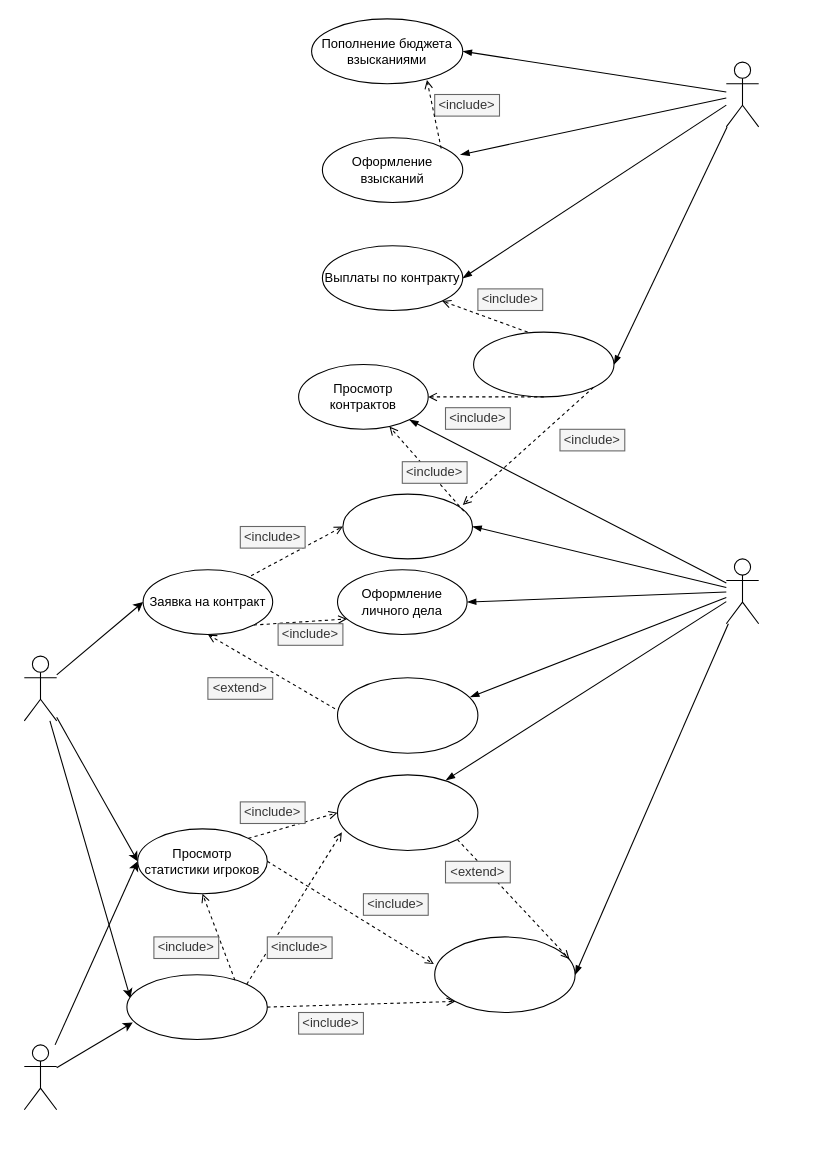
The diagram is 813 pixels wide and 1151 high, and some of its shapes have lost their labels. The shapes that lost their labels are listed below. From the top down, each one's centre as x and y in pixels, then its label:
At [742,94]: "Бухгалтер".
At [543,364]: "Подтверждение оформленного контракта".
At [407,526]: "Оформление контрактов".
At [742,591]: "Менеджер игрока".
At [40,688]: "Игрок".
At [407,715]: "Просмотр персональной информации об игроке".
At [407,812]: "Учёт взысканий".
At [504,974]: "Учёт дисквалификаций".
At [196,1007]: "Просмотр статистики команды".
At [40,1077]: "Тренер".
